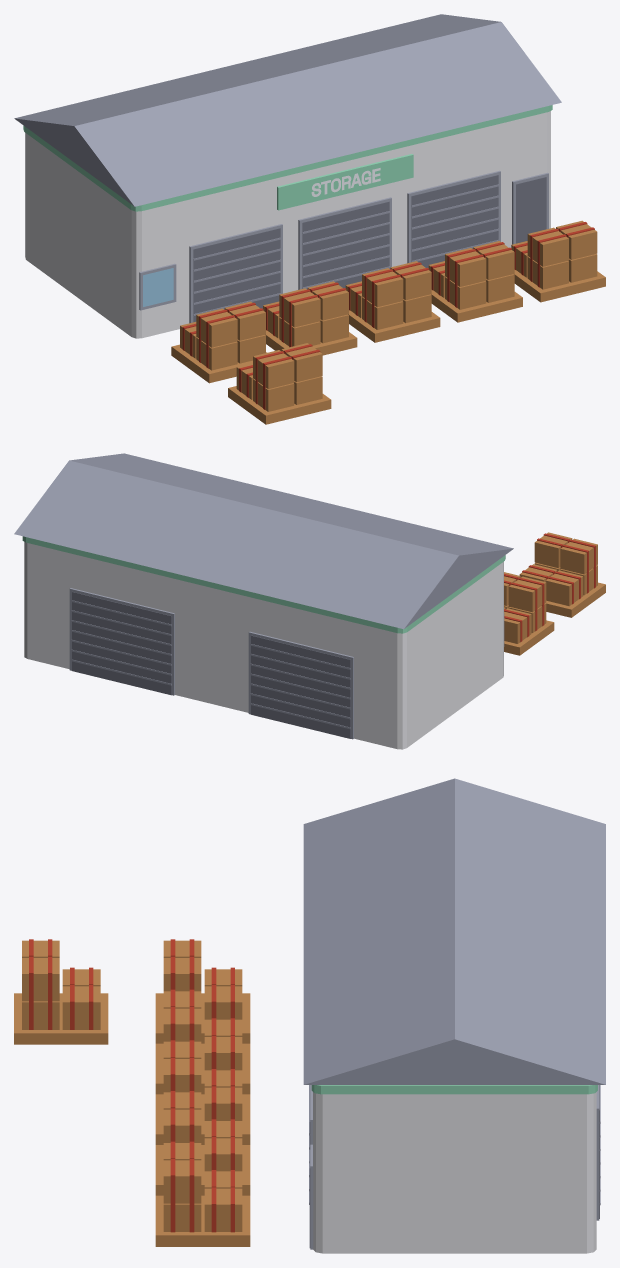
The model's file is storehouse-2x2-t6-tone-a.glb.
The picture shows the model from 3 angles, top to bottom: view 1: azimuth 30°, elevation 25°; view 2: azimuth 150°, elevation 25°; view 3: azimuth 270°, elevation 25°; orthographic projection. The views are drawn at different scales.
Parts seen in each view (by area): view 1: storehouse-2x2-t6-tone-a; view 2: storehouse-2x2-t6-tone-a; view 3: storehouse-2x2-t6-tone-a.
Boxes of the visible parts, x1,y1,x2,y2 form: storehouse-2x2-t6-tone-a: (14,14,605,424); storehouse-2x2-t6-tone-a: (14,453,605,749); storehouse-2x2-t6-tone-a: (14,778,605,1253).
Size of the model in its own units: 1.96 by 0.76 by 1.88.
Materials: 1 (1 with a texture image).
